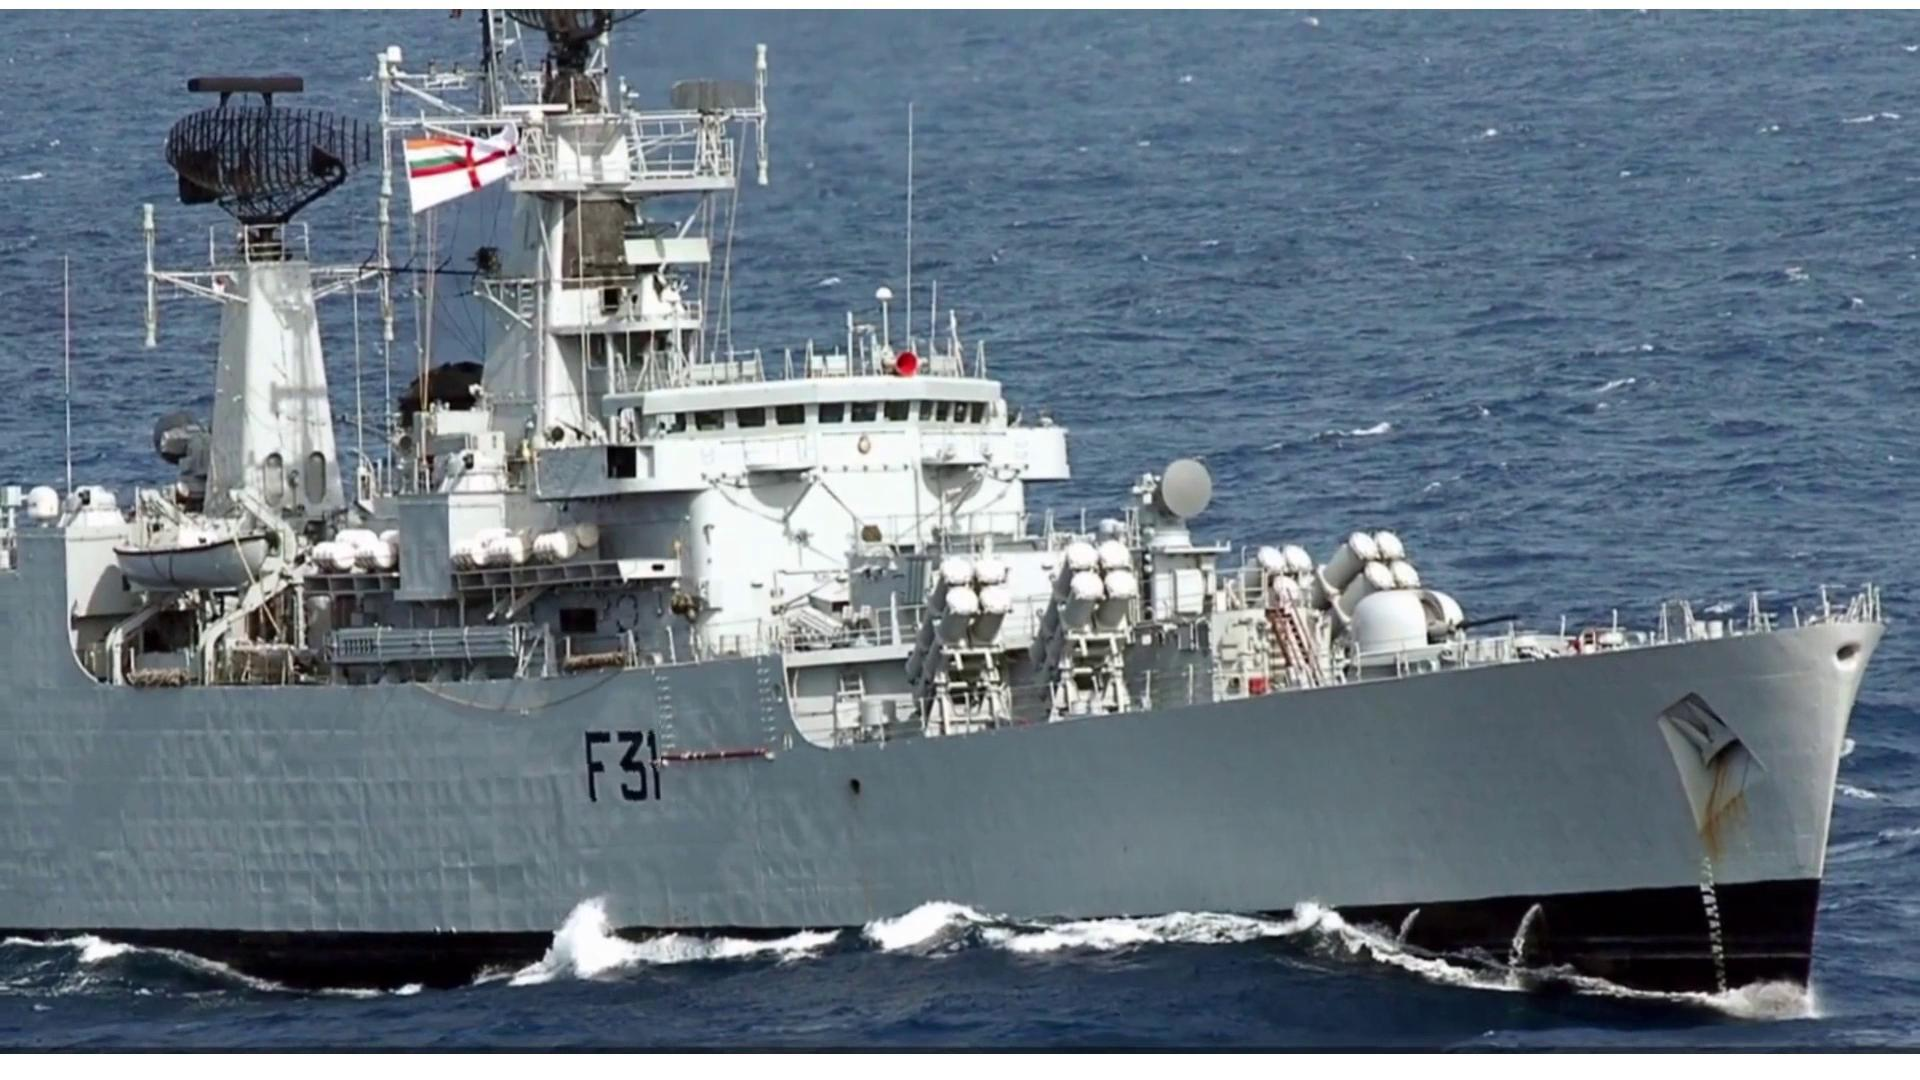OCR: (563, 712, 661, 812)
